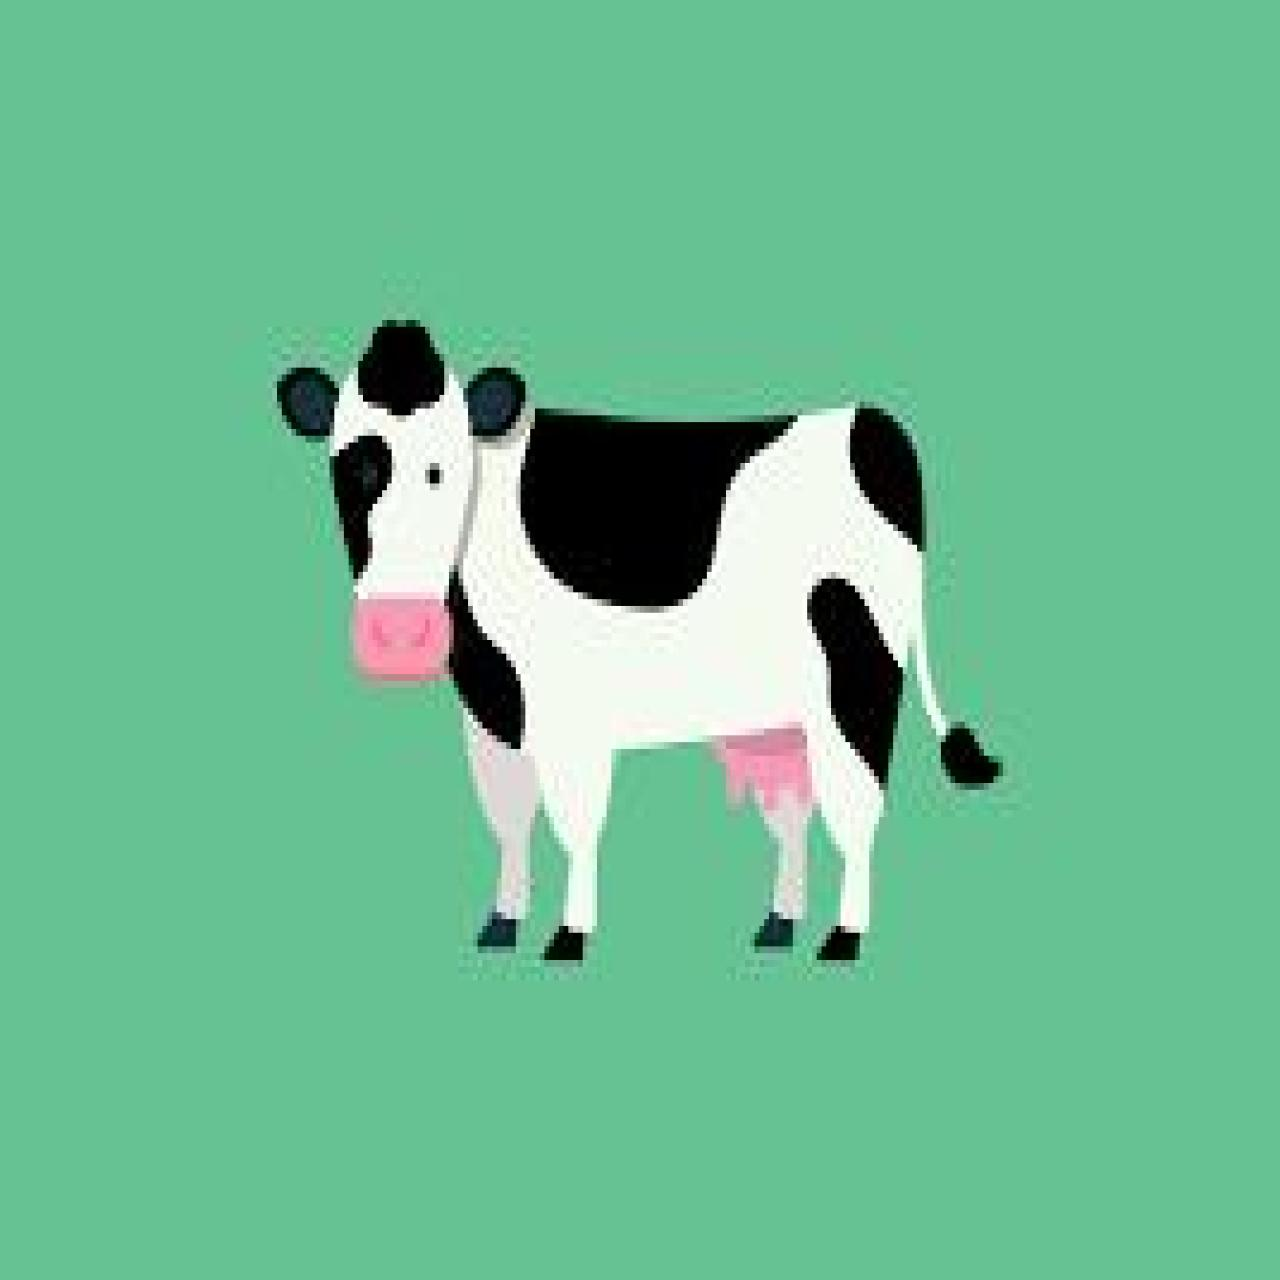cow: (277, 331, 993, 964)
